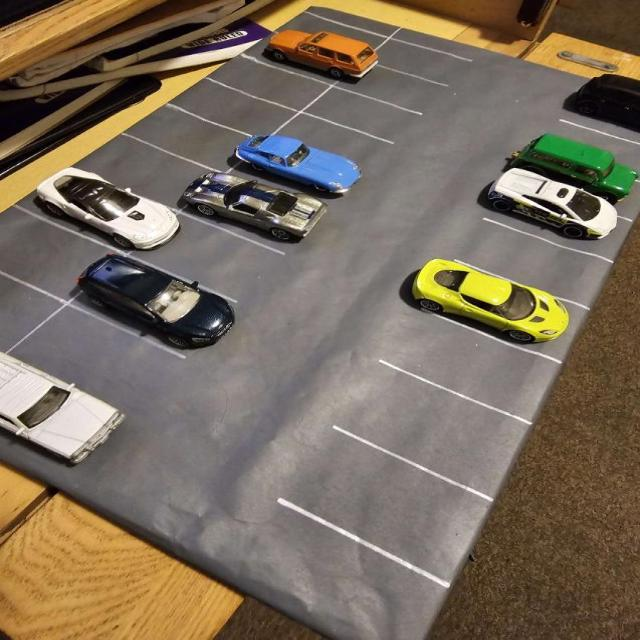Empty: (277, 425, 493, 591), (331, 358, 532, 503), (377, 311, 568, 430), (6, 302, 193, 416), (123, 213, 287, 304), (455, 218, 614, 309), (0, 204, 129, 307), (75, 133, 229, 213), (119, 102, 271, 174), (165, 76, 305, 141), (265, 112, 399, 177), (297, 84, 428, 149), (206, 53, 339, 114), (329, 60, 454, 117), (538, 118, 640, 184), (0, 270, 74, 355), (363, 34, 474, 89), (275, 11, 390, 55)
Taken: (64, 253, 239, 363), (416, 257, 592, 365), (0, 353, 131, 473), (12, 164, 183, 255), (483, 168, 634, 266), (177, 169, 329, 255), (501, 137, 640, 224), (228, 136, 368, 205), (239, 27, 372, 87), (561, 76, 640, 146)
